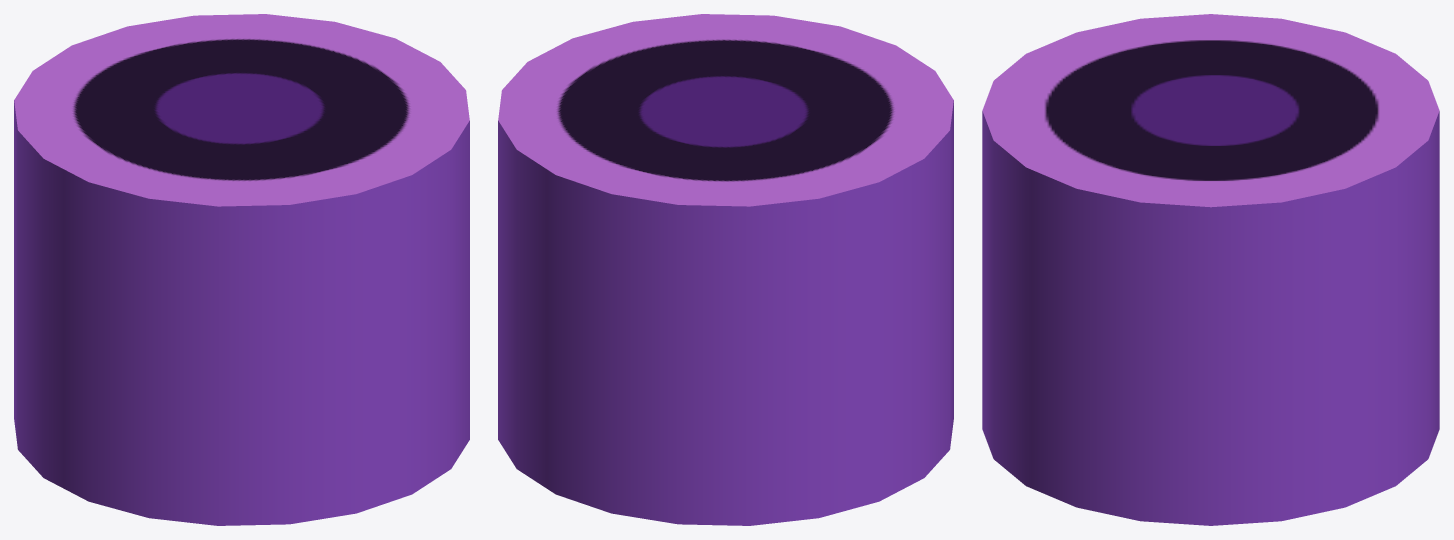
The model's file is meshIntersection.fbx.
3 views of the same model, side by side, from view 1: azimuth 30°, elevation 25°; view 2: azimuth 150°, elevation 25°; view 3: azimuth 270°, elevation 25° (orthographic).
Parts seen in each view (by area): view 1: meshIntersection; view 2: meshIntersection; view 3: meshIntersection.
Boxes of the visible parts, x1,y1,x2,y2 form: meshIntersection: [14, 14, 469, 525]; meshIntersection: [498, 14, 953, 525]; meshIntersection: [982, 14, 1439, 525].
Size of the model in its own units: 5.2 by 4 by 5.2.
Materials: 1 (1 with a texture image).
